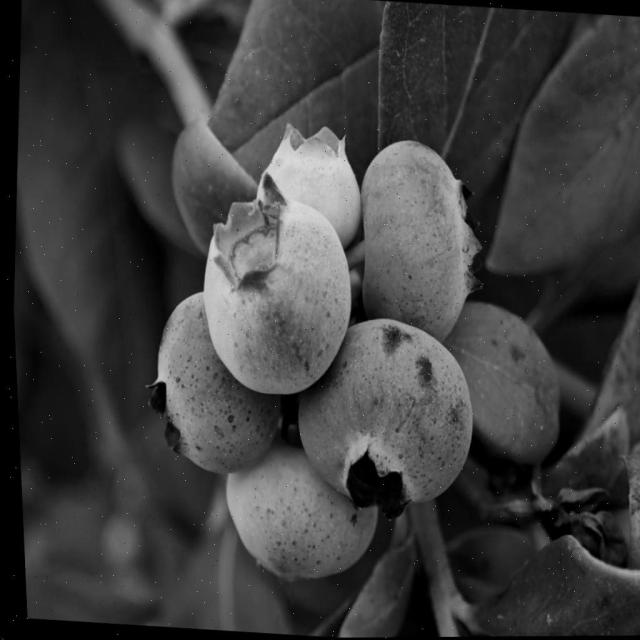RipeBlueBerry: (282, 312, 480, 518), (346, 132, 489, 340)
Semi-RipeBlueBerry: (187, 183, 361, 403), (138, 286, 286, 480)
UnripeBlueBerry: (210, 438, 382, 583), (249, 127, 364, 242)
